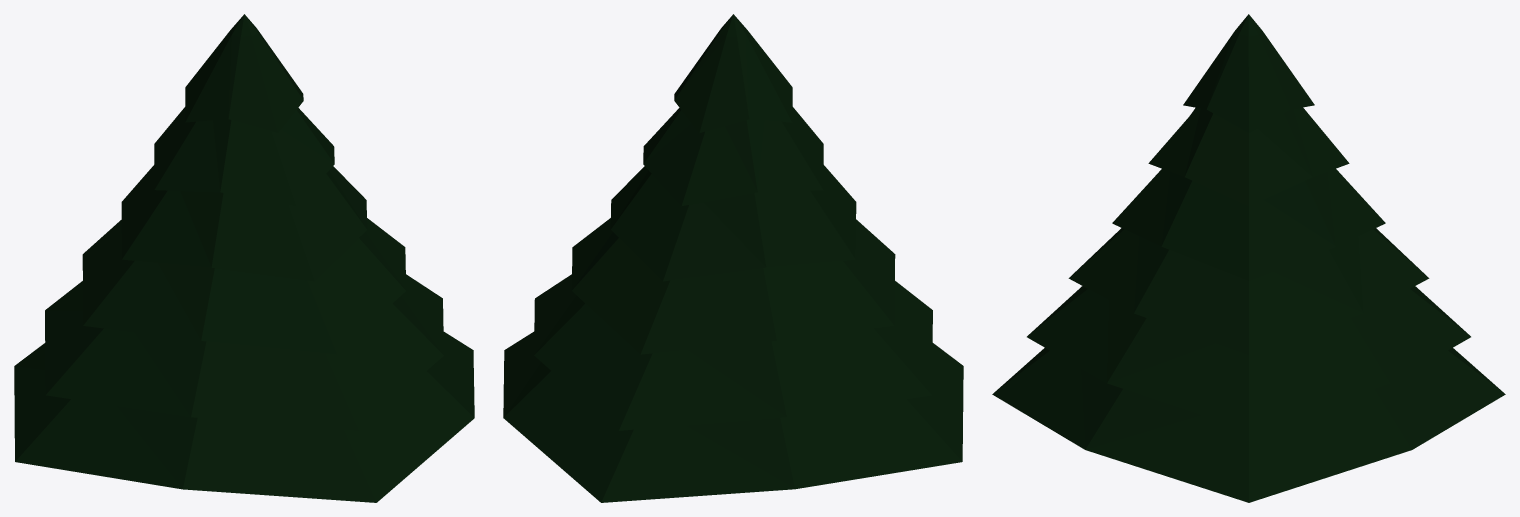
Rendered from tanne21.dae.
The picture shows the model from 3 angles, left to right: view 1: azimuth 30°, elevation 25°; view 2: azimuth 150°, elevation 25°; view 3: azimuth 270°, elevation 25°; orthographic projection. The views are drawn at different scales.
Visible parts, largest first — view 1: Tanne2; view 2: Tanne2; view 3: Tanne2.
Boxes of the visible parts, x1=… form: Tanne2: x1=14, y1=14, x2=474, y2=502; Tanne2: x1=503, y1=14, x2=963, y2=502; Tanne2: x1=992, y1=14, x2=1505, y2=502.
Size of the model in its own units: 6.4 by 6.4 by 5.89.
